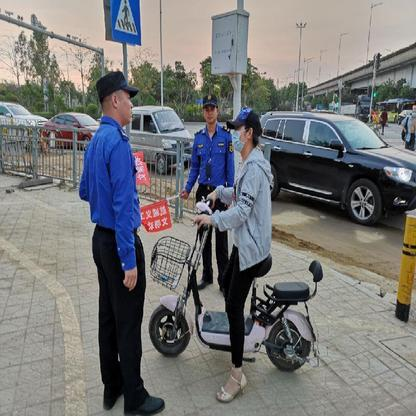target: (149, 110, 321, 403)
